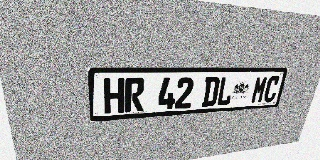2: (175, 77, 194, 109)
4: (157, 77, 177, 110)
C: (262, 76, 281, 103)
D: (201, 77, 221, 107)
H: (104, 78, 125, 114)
L: (216, 76, 235, 106)
M: (250, 76, 269, 104)
R: (125, 78, 145, 112)
